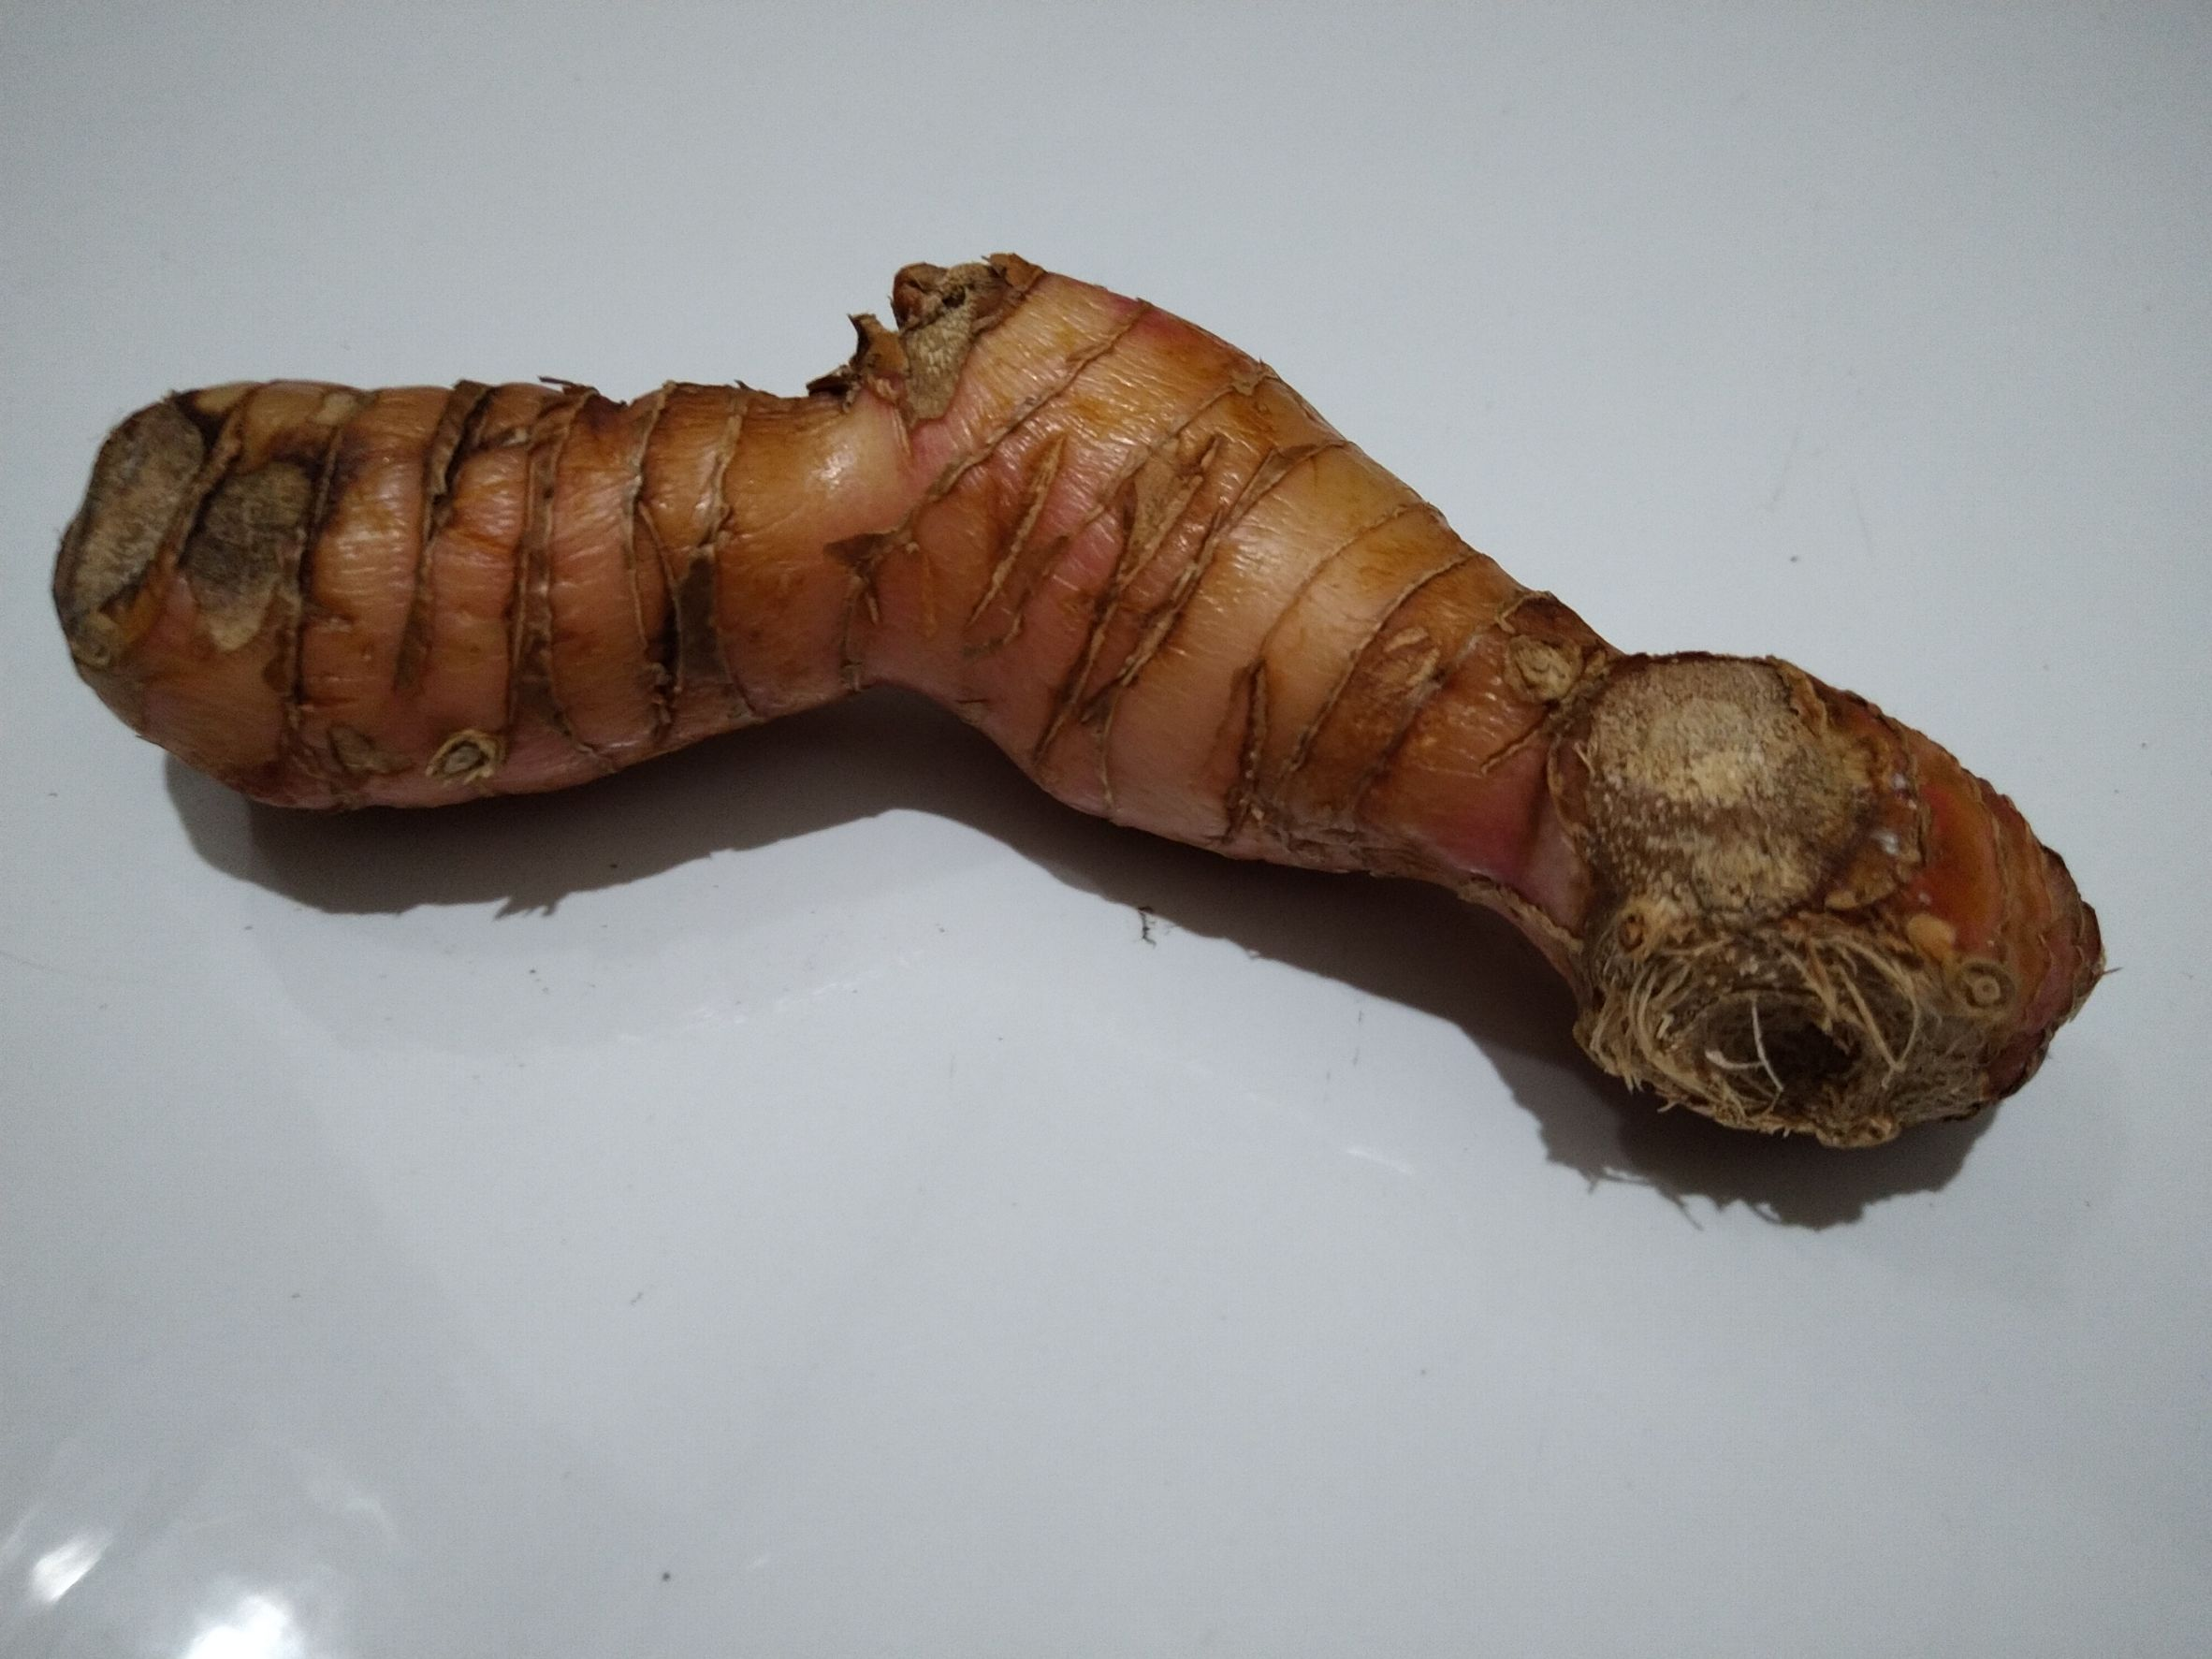Lengkuas: (68, 251, 2111, 1169)
